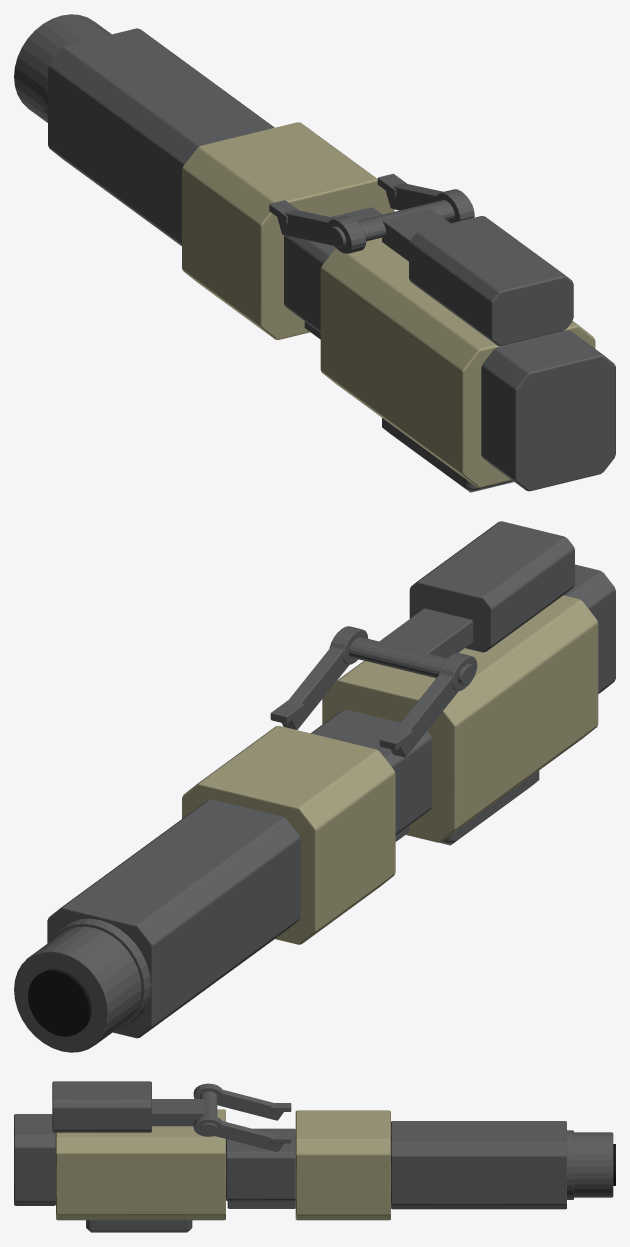
The model's file is auto_cannon_shoulder.glb.
The picture shows the model from 3 angles, top to bottom: view 1: azimuth 30°, elevation 25°; view 2: azimuth 150°, elevation 25°; view 3: azimuth 270°, elevation 25°; orthographic projection. The views are drawn at different scales.
Parts seen in each view (by area): view 1: RearBody, Barrel, FrontCollar, BackCap, TopBox, MuzzleTube, Core, CrossBar, HingePin, LinkL, MountBlock, LinkR (+2 smaller); view 2: Barrel, RearBody, FrontCollar, TopBox, MuzzleTube, Core, Bore, BackCap, CrossBar, HingePin, LinkL, LinkR (+3 smaller); view 3: Barrel, RearBody, FrontCollar, TopBox, Core, BackCap, MuzzleTube, CrossBar, MountBlock, LinkR, LinkL, UnderRail (+4 smaller).
Part boxes in pixels (x1,y1,x2,y2): RearBody: (320,237,595,487); Barrel: (48,28,274,245); FrontCollar: (182,122,394,339); BackCap: (481,330,615,491); TopBox: (409,216,573,346); MuzzleTube: (14,14,111,122); Core: (284,207,381,332); CrossBar: (382,208,450,261); HingePin: (329,200,454,247); LinkL: (277,210,334,246); MountBlock: (382,418,513,492); LinkR: (386,183,443,210); Barrel: (47,799,300,1038); RearBody: (322,595,598,842); FrontCollar: (182,725,395,944); TopBox: (409,521,574,652); MuzzleTube: (14,926,141,1052); Core: (311,709,432,834); Bore: (28,969,91,1036); BackCap: (564,564,615,693); CrossBar: (379,608,473,657); HingePin: (349,637,475,684); LinkL: (391,673,458,757); LinkR: (282,647,349,729); Barrel: (391,1121,566,1209); RearBody: (56,1109,225,1220); FrontCollar: (295,1110,390,1220); TopBox: (52,1081,151,1132); Core: (226,1128,295,1201); BackCap: (14,1114,55,1205); MuzzleTube: (574,1132,613,1197); CrossBar: (152,1099,205,1126); MountBlock: (86,1220,192,1232); LinkR: (215,1121,283,1151); LinkL: (217,1089,283,1120); UnderRail: (227,1201,295,1208).
Bounding box in the file's own units: 0.6943 × 1.11 × 4.52.
